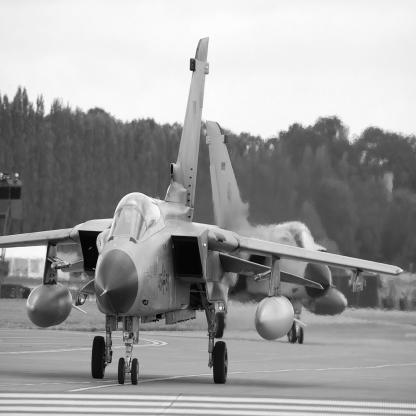Tornado: (2, 37, 405, 386), (207, 121, 380, 345)
